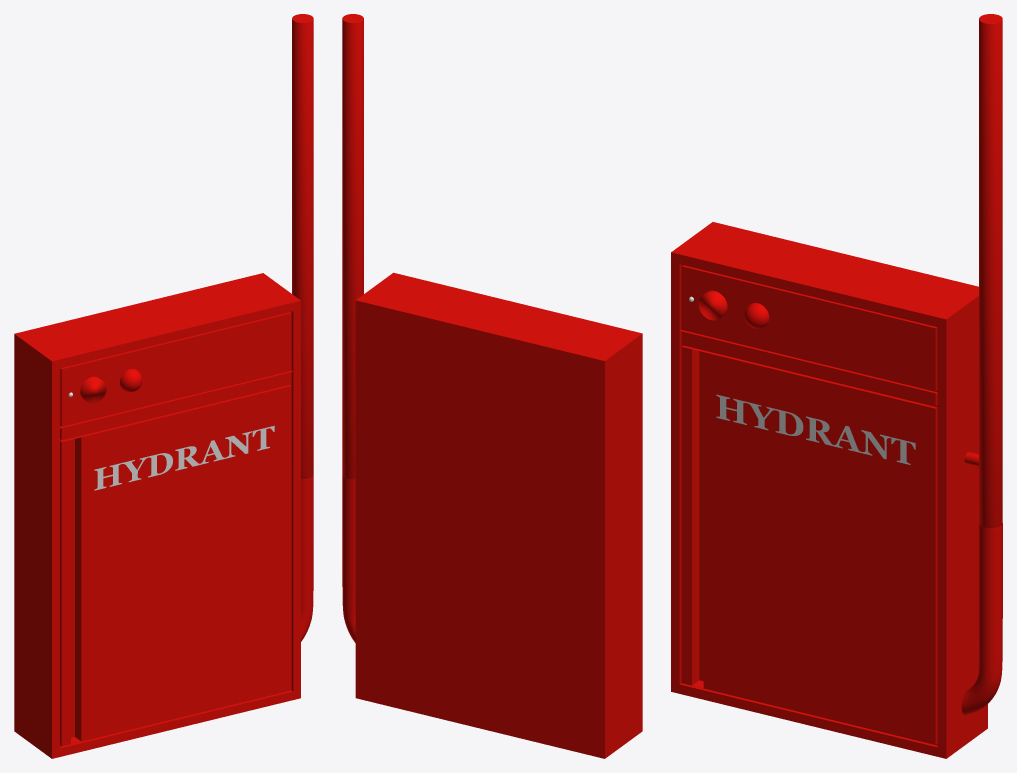
File: hydrant.fbx
3 renders of one model, left to right at view 1: azimuth 30°, elevation 25°; view 2: azimuth 150°, elevation 25°; view 3: azimuth 330°, elevation 25°, orthographic. The views are drawn at different scales.
Parts seen in each view (by area): view 1: Cube, Cylinder.002, Text, Cylinder; view 2: Cube, Cylinder.002; view 3: Cube, Cylinder.002, Text, Cylinder.
Boxes of the visible parts, box(x1,y1,x2,y2) form: Cube: box(14, 273, 300, 758); Cylinder.002: box(292, 14, 313, 641); Text: box(94, 425, 274, 490); Cylinder: box(80, 376, 106, 403); Cube: box(355, 272, 642, 758); Cylinder.002: box(342, 14, 363, 642); Cube: box(671, 222, 987, 758); Cylinder.002: box(961, 14, 1002, 714); Text: box(716, 394, 915, 464); Cylinder: box(698, 290, 727, 320).
Size of the model in its own units: 265 by 598 by 71.8.
